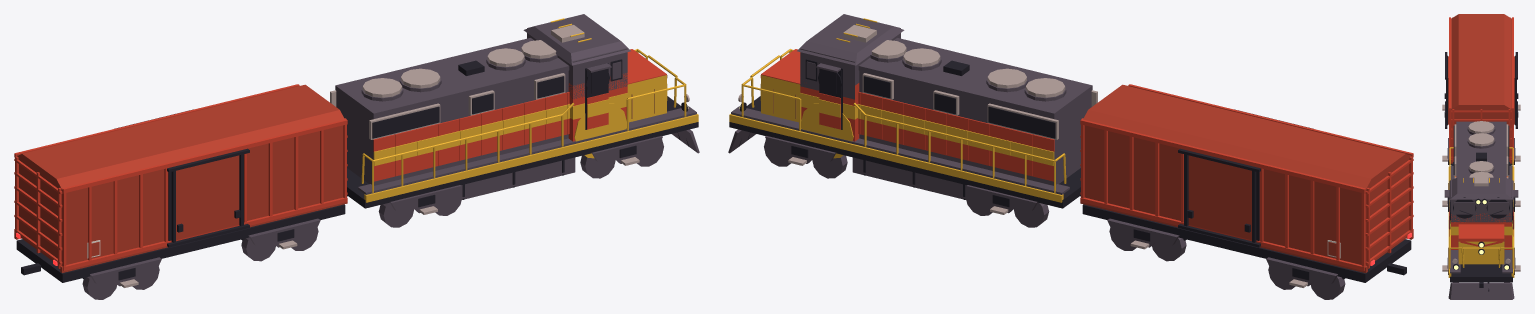
3 views of the same model, side by side, from view 1: azimuth 30°, elevation 25°; view 2: azimuth 150°, elevation 25°; view 3: azimuth 270°, elevation 25° (orthographic). The views are drawn at different scales.
Parts seen in each view (by area): view 1: body_pal_brick, body_pal_asphalt, body_pal_survivorRed, body_pal_uiDark, body_pal_schoolBusYellow, boxcarDoorR_pal_brick, body_pal_sidewalk, boxcarDoorR_pal_uiDark, doorR_pal_uiDark, wheelRR_pal_asphalt, wheel2R_pal_asphalt, wheel6R_pal_asphalt (+1 smaller); view 2: body_pal_brick, body_pal_asphalt, body_pal_survivorRed, body_pal_uiDark, body_pal_schoolBusYellow, boxcarDoorL_pal_brick, body_pal_sidewalk, boxcarDoorL_pal_uiDark, doorL_pal_uiDark, wheelRL_pal_asphalt, wheel2L_pal_asphalt, wheel6L_pal_asphalt (+1 smaller); view 3: body_pal_brick, body_pal_asphalt, body_pal_survivorRed, body_pal_uiDark, body_pal_schoolBusYellow, body_pal_sidewalk, boxcarDoorL_pal_uiDark, boxcarDoorR_pal_uiDark, lightsFront_emi_windowGlow, boxcarDoorL_pal_brick, boxcarDoorR_pal_brick.
Boxes of the visible parts, x1,y1,x2,y2 form: body_pal_brick: (14, 84, 347, 272); body_pal_asphalt: (90, 14, 699, 286); body_pal_survivorRed: (14, 49, 667, 270); body_pal_uiDark: (16, 59, 698, 282); body_pal_schoolBusYellow: (361, 18, 698, 202); boxcarDoorR_pal_brick: (176, 155, 239, 240); body_pal_sidewalk: (120, 25, 689, 287); boxcarDoorR_pal_uiDark: (171, 154, 243, 242); doorR_pal_uiDark: (586, 69, 609, 129); wheelRR_pal_asphalt: (378, 202, 414, 227); wheel2R_pal_asphalt: (580, 155, 615, 178); wheel6R_pal_asphalt: (241, 237, 275, 261); body_pal_brick: (1080, 84, 1413, 272); body_pal_asphalt: (728, 14, 1337, 286); body_pal_survivorRed: (760, 49, 1413, 270); body_pal_uiDark: (729, 59, 1411, 282); body_pal_schoolBusYellow: (729, 18, 1066, 202); boxcarDoorL_pal_brick: (1188, 155, 1251, 240); body_pal_sidewalk: (738, 25, 1307, 287); boxcarDoorL_pal_uiDark: (1184, 154, 1256, 242); doorL_pal_uiDark: (818, 69, 841, 129); wheelRL_pal_asphalt: (1013, 202, 1049, 227); wheel2L_pal_asphalt: (812, 155, 847, 178); wheel6L_pal_asphalt: (1152, 237, 1186, 261); body_pal_brick: (1450, 14, 1512, 163); body_pal_asphalt: (1444, 121, 1518, 299); body_pal_survivorRed: (1449, 17, 1513, 249); body_pal_uiDark: (1445, 52, 1517, 291); body_pal_schoolBusYellow: (1448, 147, 1514, 277); body_pal_sidewalk: (1442, 104, 1520, 271); boxcarDoorL_pal_uiDark: (1515, 55, 1518, 125); boxcarDoorR_pal_uiDark: (1444, 55, 1447, 125); lightsFront_emi_windowGlow: (1454, 200, 1508, 269); boxcarDoorL_pal_brick: (1513, 56, 1514, 124); boxcarDoorR_pal_brick: (1448, 56, 1449, 124).
Bounding box in the file's own units: 24.67 × 4.81 × 3.88.
